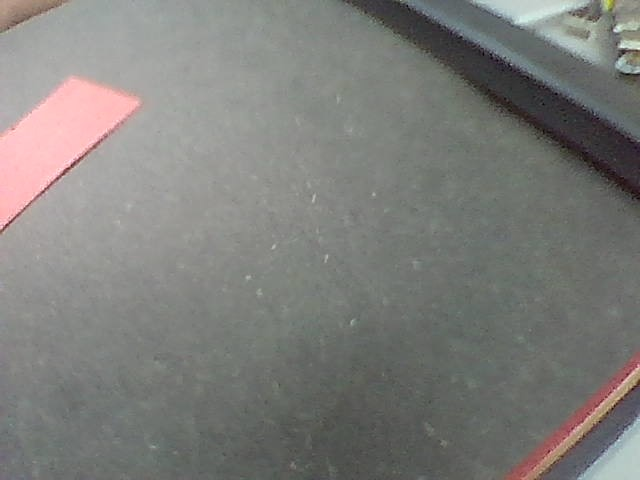card: (0, 77, 139, 230)
